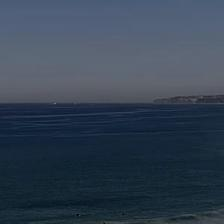surfer: (77, 213, 80, 216), (122, 213, 125, 216), (104, 223, 106, 223)
